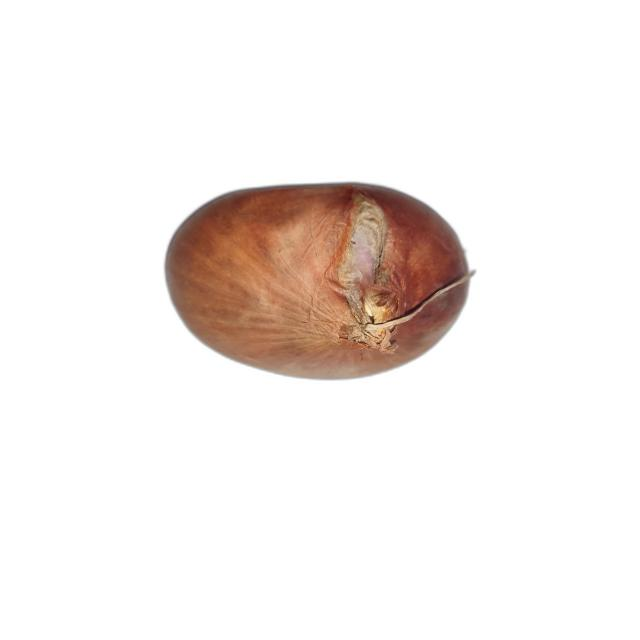onion: (164, 183, 475, 381)
